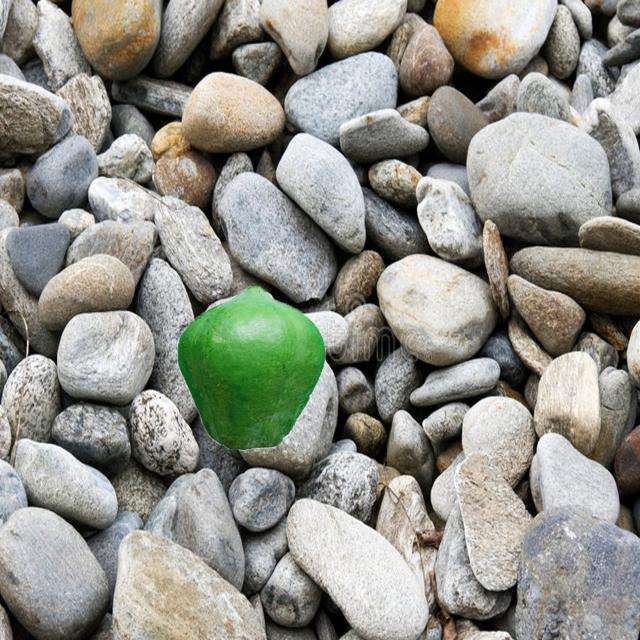Pepaya unrippen: (166, 280, 327, 461)
